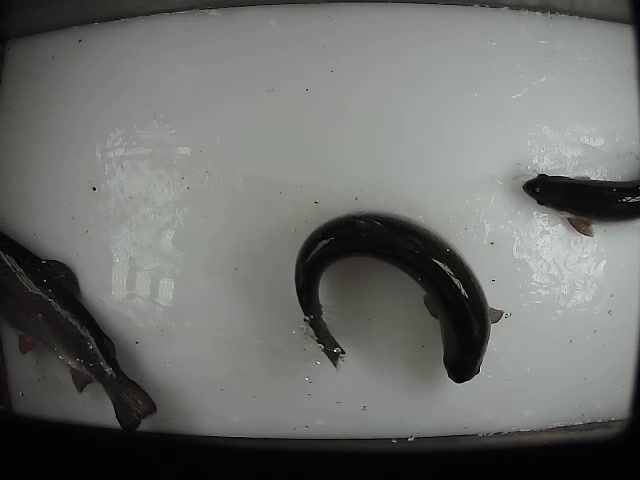fish: (292, 210, 504, 388), (1, 228, 158, 434), (520, 172, 640, 240)
